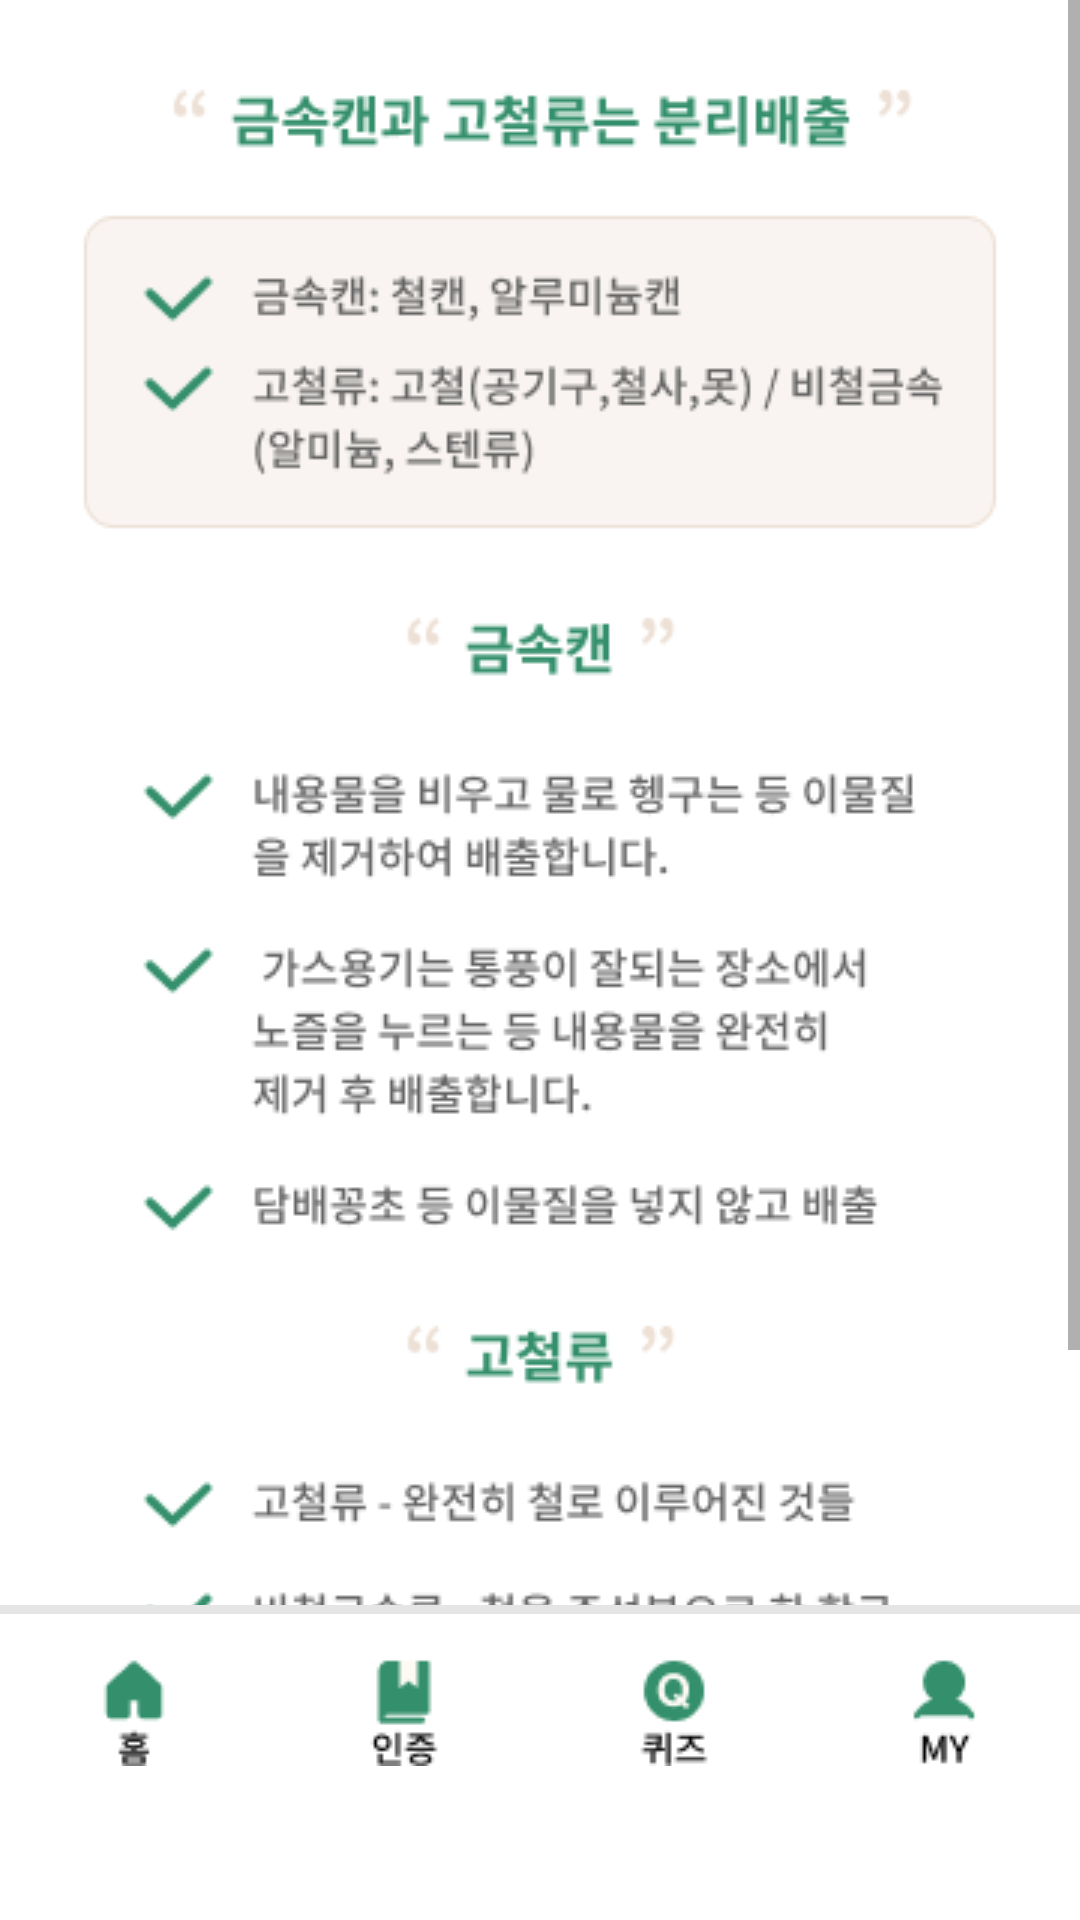

Icons on this 1080 × 1920 Android screen, each with its box as [x1=x1, y1=y1, x2=x2, y2=y2]:
bookmark: [x1=372, y1=1660, x2=438, y2=1766]
user: [x1=913, y1=1660, x2=975, y2=1764]
